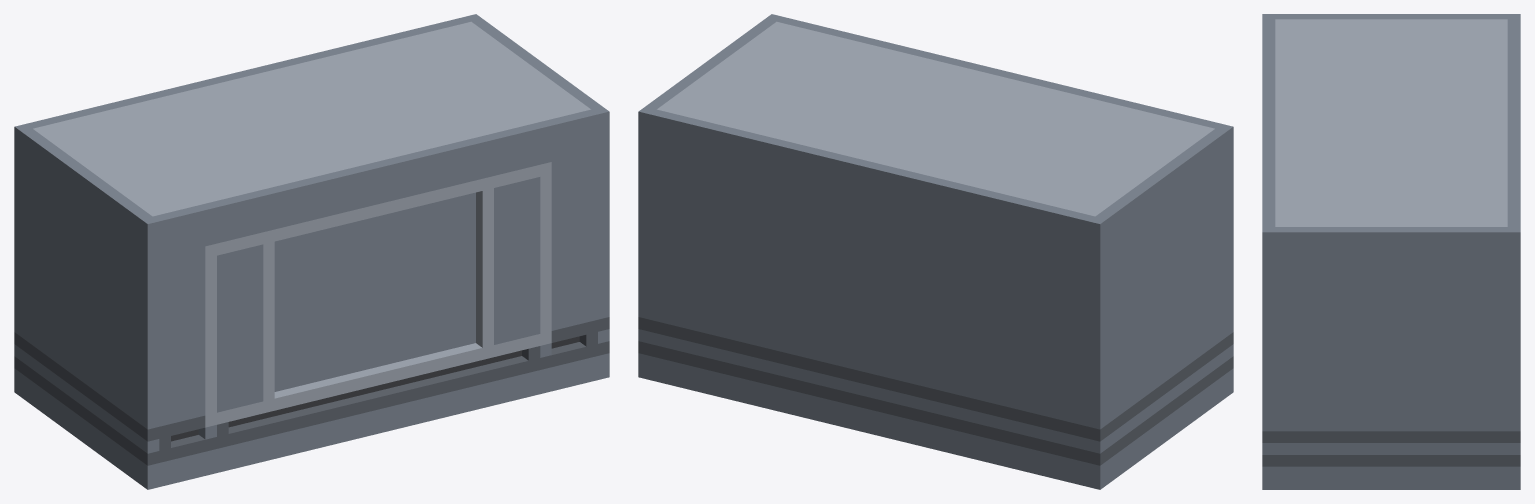
File: food-counter-base.obj
3 views of the same model, side by side, from view 1: azimuth 30°, elevation 25°; view 2: azimuth 150°, elevation 25°; view 3: azimuth 270°, elevation 25° (orthographic). The views are drawn at different scales.
Bounding box in the file's own units: 4 × 2.2 × 2.
1 material, 1 textured.
